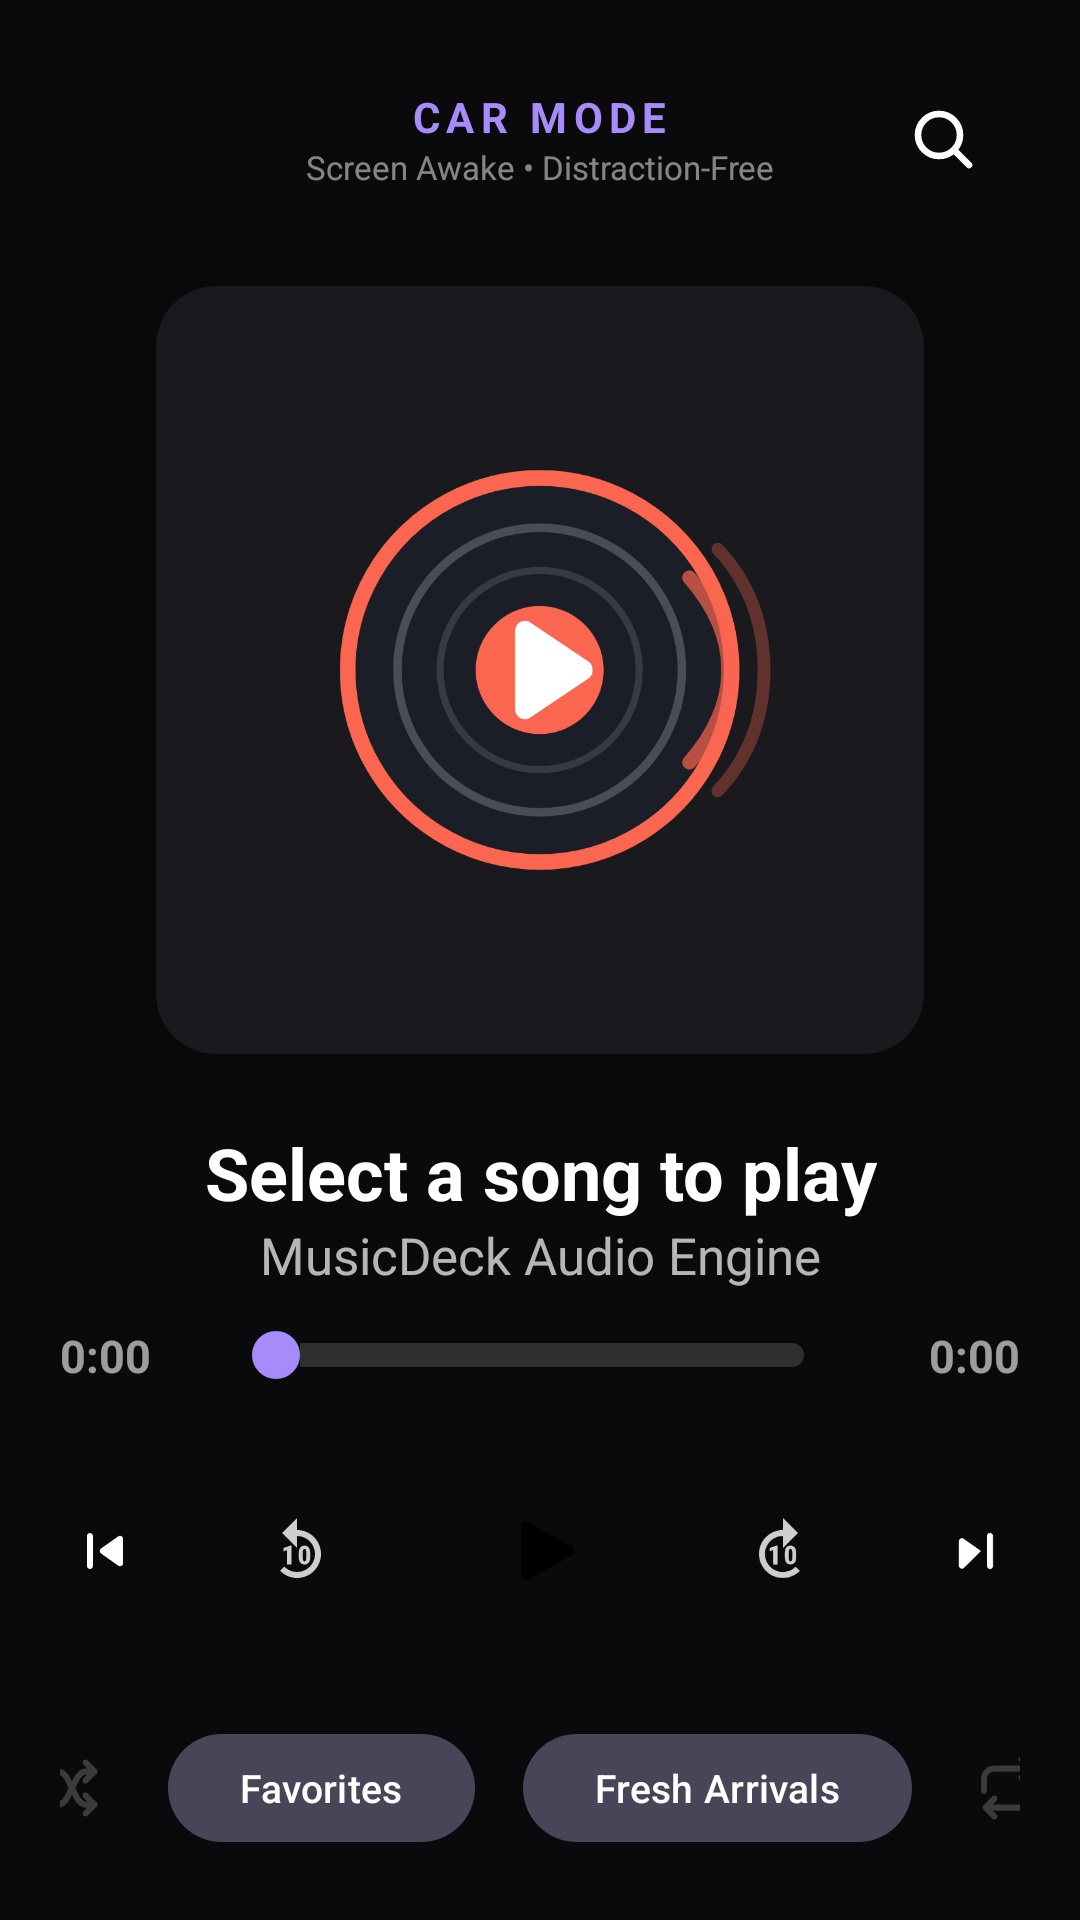

Icon bounding boxes for this 1080 x 1920 phone screenshot, format box=[x1, y1, x2, y2]:
Forward 10 Seconds: box=[759, 1518, 800, 1578]
Rewind 10 Seconds: box=[280, 1518, 321, 1578]
